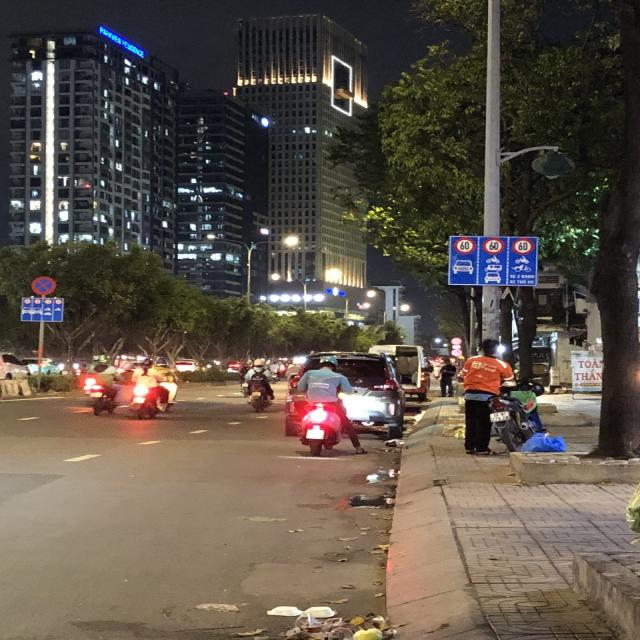Bien bao cam dung xe va do xe: (30, 272, 63, 298)
Bien bao toc do toi da cho phep: (512, 235, 538, 257), (480, 235, 507, 256), (450, 236, 476, 254)
